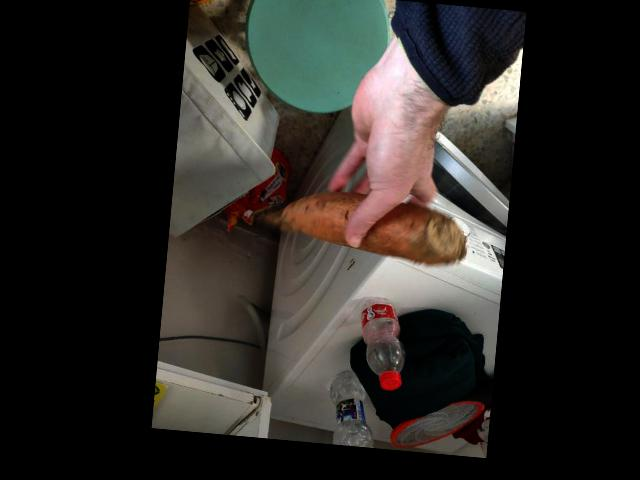sweet_potato: (281, 189, 442, 248)
